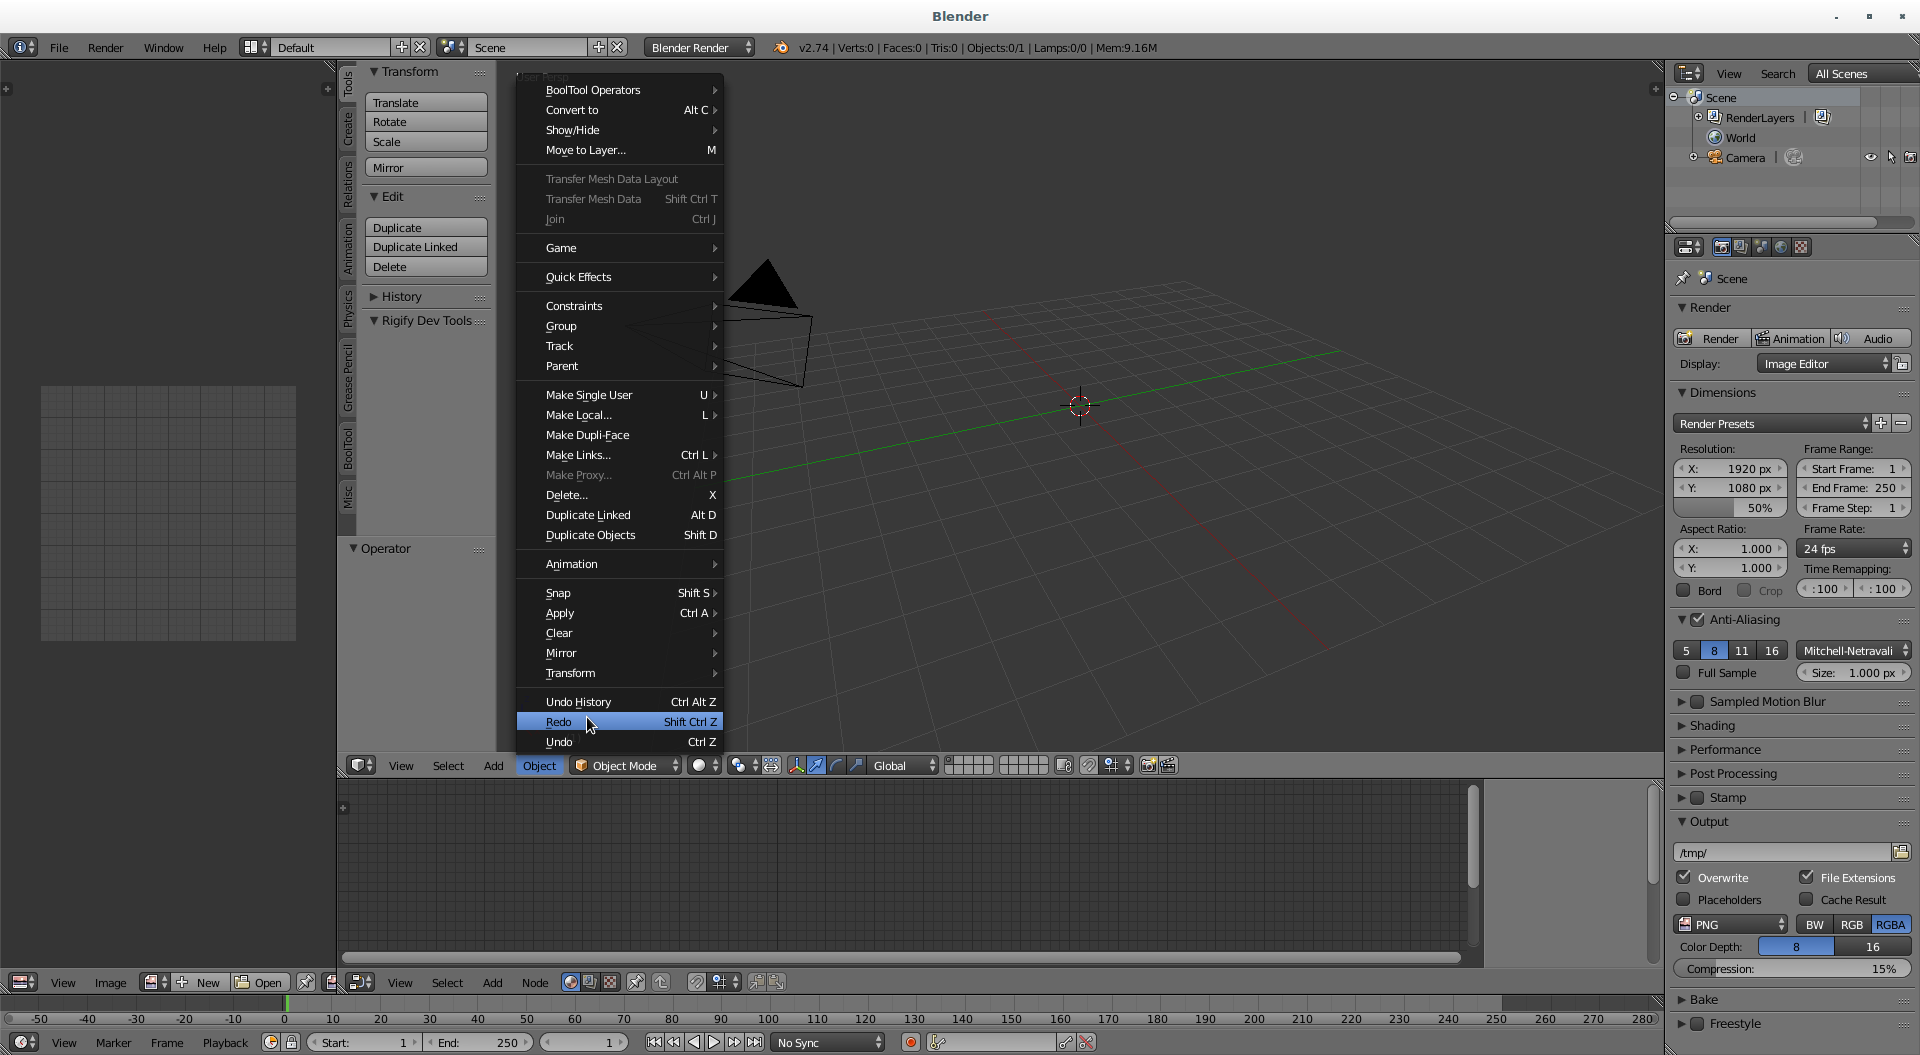button: (342, 952, 1461, 964), (517, 233, 724, 262), (517, 262, 724, 291), (517, 550, 724, 577), (517, 73, 724, 99), (517, 379, 724, 405), (1674, 958, 1912, 978), (517, 209, 724, 233), (517, 291, 724, 314), (517, 356, 724, 379), (517, 525, 724, 548), (517, 663, 724, 686), (517, 731, 724, 755), (517, 140, 724, 162), (517, 166, 724, 188), (517, 314, 724, 337), (517, 579, 724, 602), (517, 602, 724, 624), (517, 689, 724, 711), (517, 99, 724, 120), (517, 120, 724, 140), (517, 188, 724, 209), (517, 405, 724, 426), (517, 485, 724, 505), (517, 711, 724, 731), (1672, 412, 1872, 433), (517, 337, 724, 356), (517, 426, 724, 446), (517, 446, 724, 465), (517, 465, 724, 485), (517, 505, 724, 525), (517, 624, 724, 643), (517, 643, 724, 663), (1684, 86, 1862, 107), (1668, 214, 1878, 231), (1706, 107, 1834, 129), (1756, 352, 1891, 373), (926, 1032, 1057, 1052), (364, 131, 488, 152), (1689, 693, 1830, 711), (365, 110, 488, 131), (365, 216, 488, 236), (365, 91, 488, 110), (365, 156, 488, 175), (365, 236, 488, 256), (365, 256, 488, 275), (1673, 498, 1787, 518), (1673, 913, 1787, 934), (770, 1032, 885, 1052), (1797, 538, 1912, 557), (1797, 641, 1912, 660), (1703, 146, 1804, 168), (569, 755, 682, 774), (1807, 62, 1920, 82), (644, 36, 755, 55), (1687, 611, 1785, 630), (1830, 327, 1914, 348), (1672, 327, 1752, 348), (1752, 327, 1830, 348), (1674, 664, 1759, 682), (1834, 935, 1912, 955), (1758, 935, 1834, 955), (339, 337, 357, 417), (866, 755, 939, 774), (1467, 783, 1480, 889), (194, 1032, 259, 1052), (1647, 783, 1660, 883), (338, 217, 357, 281), (77, 36, 134, 57), (135, 36, 192, 57), (230, 972, 290, 991), (86, 1032, 142, 1052), (171, 972, 230, 991), (338, 155, 357, 212), (1851, 1, 1886, 32), (1885, 1, 1920, 32), (84, 971, 136, 991), (142, 1032, 194, 1052), (1819, 1, 1852, 32), (423, 755, 474, 776), (1752, 62, 1804, 82), (516, 755, 564, 776), (339, 421, 357, 476), (377, 755, 423, 776), (39, 971, 84, 991), (1706, 129, 1762, 146), (423, 973, 472, 993), (1689, 790, 1749, 806), (192, 36, 236, 57), (42, 1032, 86, 1052), (512, 973, 559, 993), (339, 285, 357, 333), (474, 755, 516, 776), (378, 972, 422, 991), (1872, 913, 1912, 934), (338, 107, 357, 149), (1708, 62, 1751, 82), (38, 36, 77, 57), (472, 973, 512, 993), (1797, 913, 1834, 934), (1834, 913, 1872, 934), (338, 65, 359, 101), (707, 972, 742, 993), (687, 755, 722, 774), (727, 755, 763, 774), (1099, 755, 1134, 774), (138, 971, 170, 991), (346, 754, 375, 776), (6, 971, 38, 991), (1673, 236, 1704, 257), (339, 479, 357, 515), (239, 36, 272, 56), (8, 36, 38, 57), (9, 1032, 39, 1052), (344, 971, 374, 991), (1674, 62, 1704, 82), (1758, 641, 1787, 660), (1700, 641, 1729, 660), (1729, 641, 1758, 660), (1671, 265, 1694, 288), (436, 36, 466, 55), (1673, 641, 1700, 660), (1684, 107, 1706, 129), (1711, 236, 1733, 257), (1791, 236, 1813, 257), (1891, 352, 1914, 373), (579, 972, 601, 993), (1751, 236, 1772, 257), (1891, 412, 1912, 433), (281, 1032, 301, 1052), (664, 1032, 685, 1052), (685, 1032, 705, 1052), (744, 1032, 765, 1052), (1076, 1032, 1096, 1052), (651, 972, 672, 993), (766, 972, 787, 993), (1157, 755, 1180, 774), (807, 755, 827, 774), (1054, 755, 1074, 774), (1772, 236, 1791, 257), (1872, 412, 1891, 433), (1684, 147, 1703, 168), (1664, 86, 1684, 107), (1891, 842, 1912, 861), (261, 1032, 281, 1052), (725, 1032, 744, 1052), (902, 1032, 921, 1052), (601, 972, 621, 993), (626, 972, 646, 993), (687, 972, 707, 993), (763, 755, 782, 774), (787, 755, 807, 774), (827, 755, 847, 774), (847, 755, 866, 774), (1080, 755, 1099, 774), (390, 36, 411, 55), (1733, 236, 1751, 257), (646, 1032, 664, 1052), (705, 1032, 724, 1052), (1057, 1032, 1076, 1052), (561, 972, 579, 993), (748, 972, 766, 993), (320, 971, 336, 993), (411, 36, 430, 55), (608, 36, 627, 55), (296, 972, 314, 991), (1139, 755, 1157, 774), (588, 36, 607, 55), (1797, 498, 1812, 518), (1897, 498, 1912, 518), (1797, 478, 1812, 498), (1897, 459, 1912, 478), (1897, 478, 1912, 498), (307, 1032, 321, 1052), (614, 1032, 629, 1052), (1797, 459, 1812, 477), (1673, 477, 1687, 496), (1773, 477, 1787, 496), (1898, 578, 1912, 598), (1898, 663, 1912, 682), (1775, 557, 1787, 578), (540, 1032, 553, 1052), (1773, 459, 1787, 477), (1839, 579, 1854, 598), (1854, 579, 1868, 598), (1674, 538, 1687, 557), (1775, 538, 1787, 557), (1674, 557, 1687, 577), (1797, 663, 1810, 682), (409, 1033, 422, 1052), (423, 1033, 436, 1052), (521, 1033, 534, 1052), (321, 81, 336, 96), (1648, 82, 1664, 97), (1689, 1016, 1704, 1032), (1673, 459, 1687, 476), (1674, 869, 1691, 883), (1797, 579, 1810, 598), (1674, 891, 1690, 906), (1798, 891, 1813, 906), (1736, 582, 1751, 596), (1799, 869, 1813, 883), (1676, 582, 1690, 596), (336, 802, 349, 815), (1676, 793, 1687, 806), (1, 82, 12, 96), (1676, 301, 1687, 313), (1676, 615, 1687, 626), (1676, 696, 1687, 708), (1676, 744, 1687, 756), (1676, 768, 1687, 780), (368, 66, 381, 77), (368, 191, 381, 201), (368, 314, 381, 325), (347, 543, 359, 553), (1676, 387, 1687, 398), (1676, 721, 1687, 731), (1677, 816, 1687, 828), (1677, 1019, 1687, 1030), (369, 290, 378, 303), (1677, 995, 1687, 1006)
common: (18, 1013, 1655, 1023), (321, 1032, 409, 1052), (1686, 477, 1773, 498), (1687, 557, 1775, 578), (1812, 498, 1897, 518), (1687, 538, 1775, 557), (1812, 459, 1897, 478), (1812, 478, 1897, 498), (436, 1033, 521, 1052), (1686, 459, 1773, 477), (1687, 767, 1780, 782), (1800, 561, 1893, 576), (382, 313, 473, 327), (553, 1032, 614, 1052), (1095, 36, 1159, 56), (1799, 440, 1877, 456), (1687, 742, 1765, 757), (966, 36, 1028, 56), (1031, 36, 1089, 56), (1676, 522, 1750, 537), (1678, 939, 1745, 955), (1687, 385, 1759, 399), (1800, 522, 1871, 537), (1676, 440, 1739, 456), (1716, 265, 1758, 288), (1821, 872, 1897, 883), (1687, 718, 1738, 735), (1677, 355, 1724, 373), (882, 36, 924, 56), (381, 65, 440, 78), (360, 542, 413, 556), (837, 36, 876, 56), (1698, 894, 1762, 906), (795, 36, 831, 56), (1687, 815, 1732, 830), (1821, 895, 1888, 906), (1710, 1019, 1762, 1032), (381, 288, 423, 304), (1687, 300, 1733, 314), (929, 36, 960, 56), (1810, 579, 1839, 598), (1868, 579, 1898, 598), (1698, 873, 1749, 883), (1689, 993, 1723, 1007), (381, 190, 407, 203), (1698, 585, 1723, 596), (1759, 585, 1784, 596)
container: (336, 58, 1664, 778), (1, 58, 336, 993), (336, 778, 1665, 968), (336, 778, 1484, 968), (336, 778, 1467, 952), (336, 58, 498, 751), (338, 58, 498, 537), (356, 60, 496, 535), (1, 1, 1920, 32), (1664, 383, 1920, 607), (1, 32, 1920, 58), (1664, 811, 1920, 986), (1, 1029, 1664, 1055), (1664, 87, 1920, 233), (336, 750, 1665, 777), (336, 537, 498, 751), (338, 968, 1665, 993), (1, 1011, 1664, 1029), (1, 994, 1664, 1011), (1664, 298, 1920, 379), (1664, 609, 1920, 689), (1665, 1012, 1920, 1054), (1664, 260, 1920, 295), (338, 58, 356, 537), (1797, 459, 1912, 518), (1673, 459, 1787, 518), (1664, 60, 1920, 86), (1664, 234, 1920, 260), (1665, 987, 1920, 1012), (1664, 691, 1920, 713), (1664, 715, 1920, 737), (1664, 787, 1920, 809), (1672, 327, 1914, 350), (1664, 741, 1920, 761), (1664, 764, 1920, 785), (1672, 413, 1912, 434), (307, 1032, 534, 1052), (1664, 214, 1920, 233), (1674, 538, 1787, 578), (42, 1032, 259, 1052), (38, 36, 236, 58), (926, 1032, 1096, 1052), (379, 973, 559, 993), (1756, 353, 1914, 374), (1758, 935, 1914, 955), (646, 1032, 765, 1052), (307, 1032, 423, 1052), (1797, 498, 1912, 518), (1797, 913, 1912, 934), (1673, 498, 1787, 518), (1674, 557, 1787, 578), (1647, 785, 1660, 965), (423, 1032, 534, 1052), (1711, 236, 1813, 259), (1797, 459, 1912, 478), (1797, 478, 1912, 498), (1673, 459, 1787, 478), (1673, 478, 1787, 498), (1674, 538, 1787, 557), (1467, 783, 1480, 946), (1797, 579, 1912, 598), (40, 972, 138, 993), (1797, 868, 1898, 887), (540, 1032, 629, 1052), (1797, 890, 1889, 908), (1674, 890, 1765, 907), (1674, 868, 1752, 887), (1689, 1016, 1764, 1033), (1732, 579, 1789, 602), (561, 972, 621, 993), (1672, 579, 1726, 602), (687, 972, 742, 993), (261, 1032, 301, 1052), (748, 972, 787, 993)
header: (929, 6, 992, 26)
image: (729, 58, 1664, 751), (42, 385, 297, 641), (998, 754, 1050, 774), (943, 754, 994, 774), (1694, 265, 1715, 288), (770, 36, 792, 56), (1901, 147, 1920, 166), (1880, 147, 1901, 165), (1862, 147, 1880, 165)
text-input: (1673, 842, 1891, 861), (272, 36, 390, 56), (468, 36, 587, 55)
